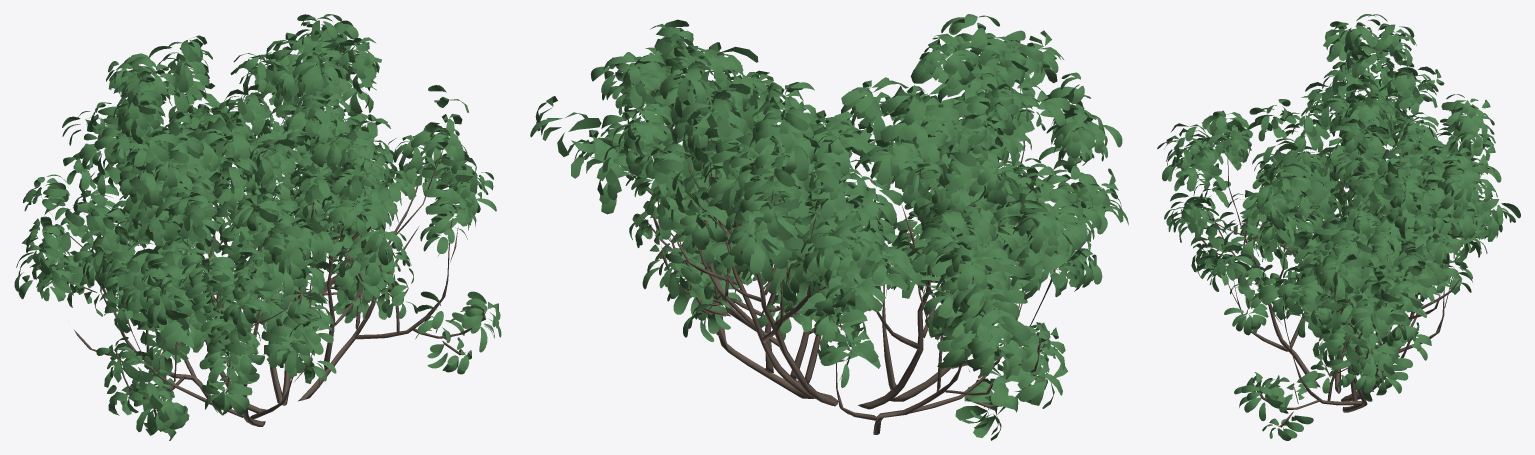
File: tree_05.fbx
3 renders of one model, left to right at view 1: azimuth 30°, elevation 25°; view 2: azimuth 150°, elevation 25°; view 3: azimuth 270°, elevation 25°, orthographic. The views are drawn at different scales.
Parts seen in each view (by area): view 1: GS Deciduous bush A 3; view 2: GS Deciduous bush A 3; view 3: GS Deciduous bush A 3.
Part boxes in pixels (x1,y1,x2,y2): GS Deciduous bush A 3: [14, 14, 501, 440]; GS Deciduous bush A 3: [530, 14, 1128, 440]; GS Deciduous bush A 3: [1157, 14, 1520, 440].
Size of the model in its own units: 154 by 128 by 126.
